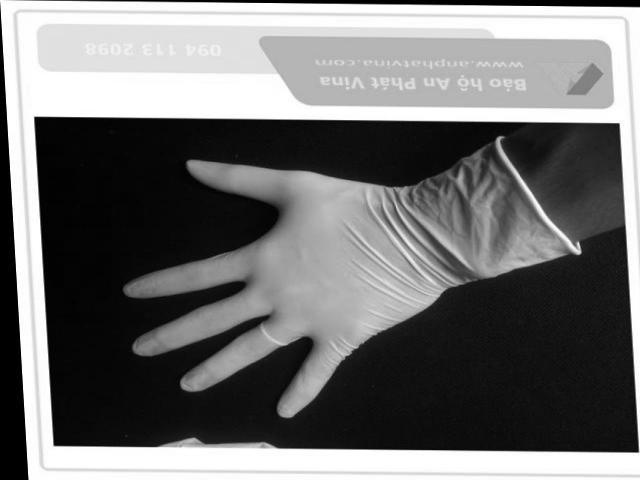gloved: (119, 156, 433, 419)
